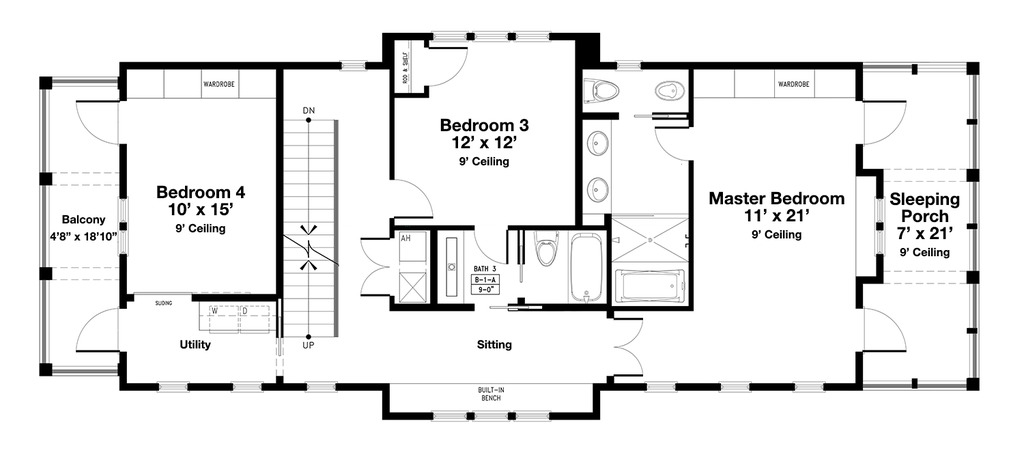coffee_table: (397, 269, 429, 307)
door: (857, 301, 910, 358), (72, 97, 125, 150), (69, 304, 120, 356), (859, 96, 910, 148), (610, 314, 645, 381), (356, 235, 392, 300), (389, 175, 436, 222), (425, 45, 470, 90), (472, 223, 511, 267)
large_sink: (579, 77, 622, 105), (531, 228, 559, 270)
small_sink: (583, 120, 611, 216)
stairs: (281, 107, 340, 352)
tub: (607, 265, 687, 307), (565, 229, 608, 305)
windows: (423, 408, 555, 428), (429, 29, 553, 43), (870, 196, 889, 259), (114, 194, 130, 256), (914, 60, 969, 77), (152, 379, 191, 397), (225, 380, 266, 397), (715, 379, 755, 396), (639, 379, 678, 396), (302, 380, 340, 396), (791, 380, 827, 394)
